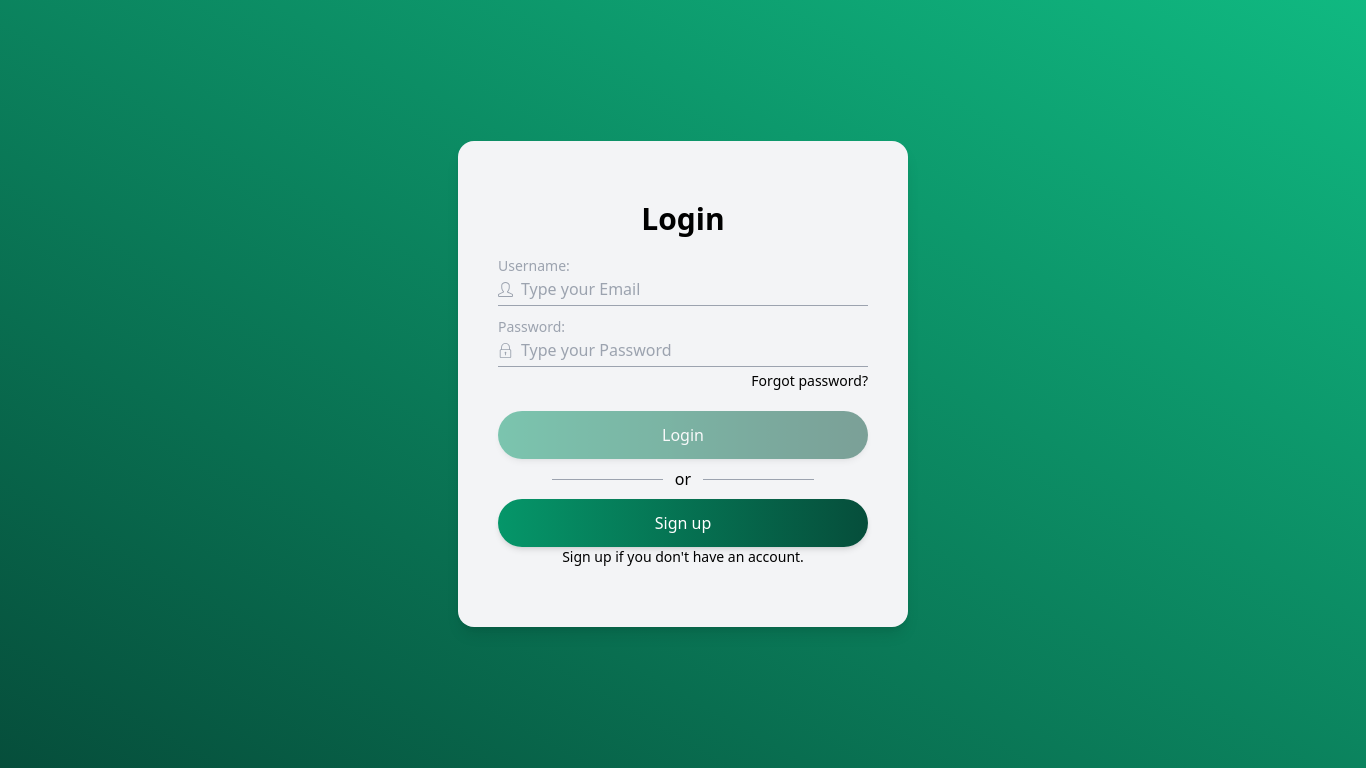
Test: testing if forgot-pas button work correctly › check logics
What coordinates should you click on to do the following:
click the text with test id "forgot"
I would click on:
 (810, 380)
Its box is [751,371,868,390].
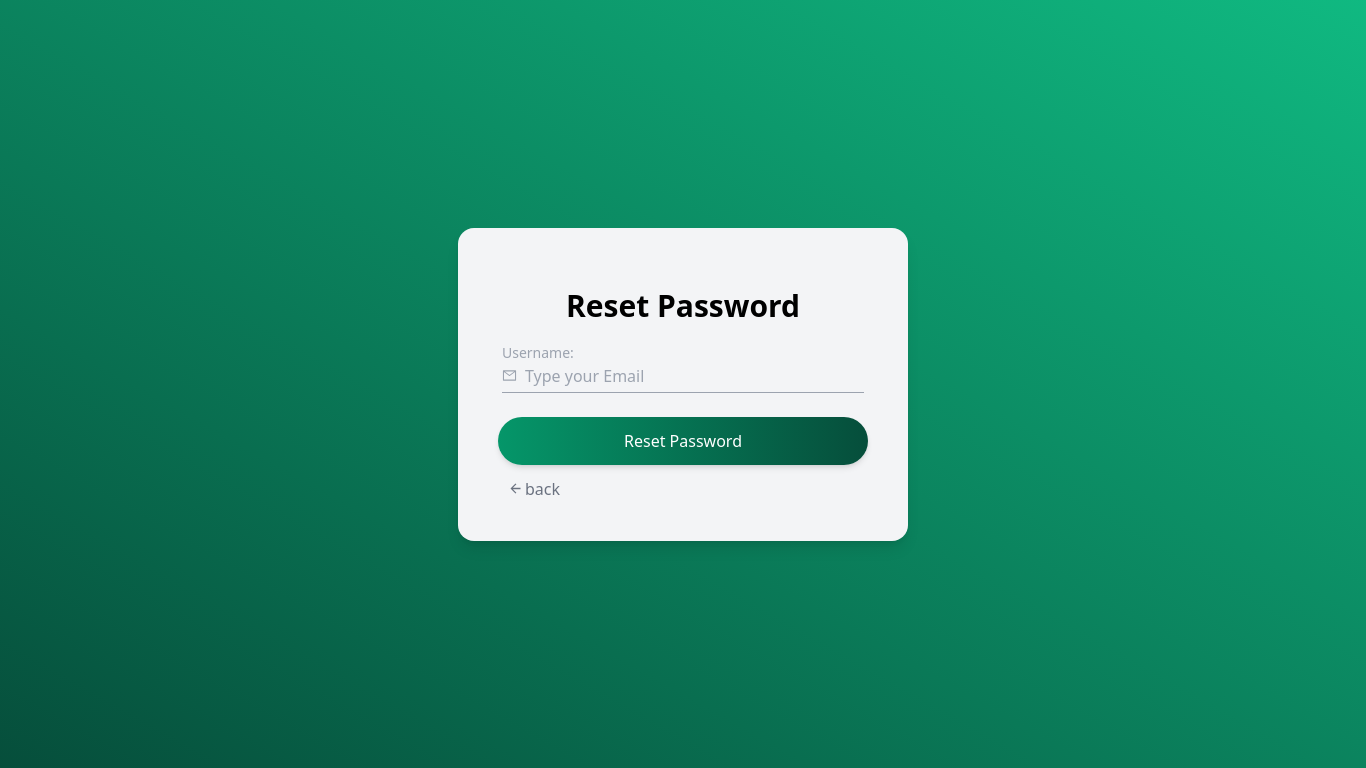
Now the heading "Reset Password" is shown, box [566,284,800,326]
